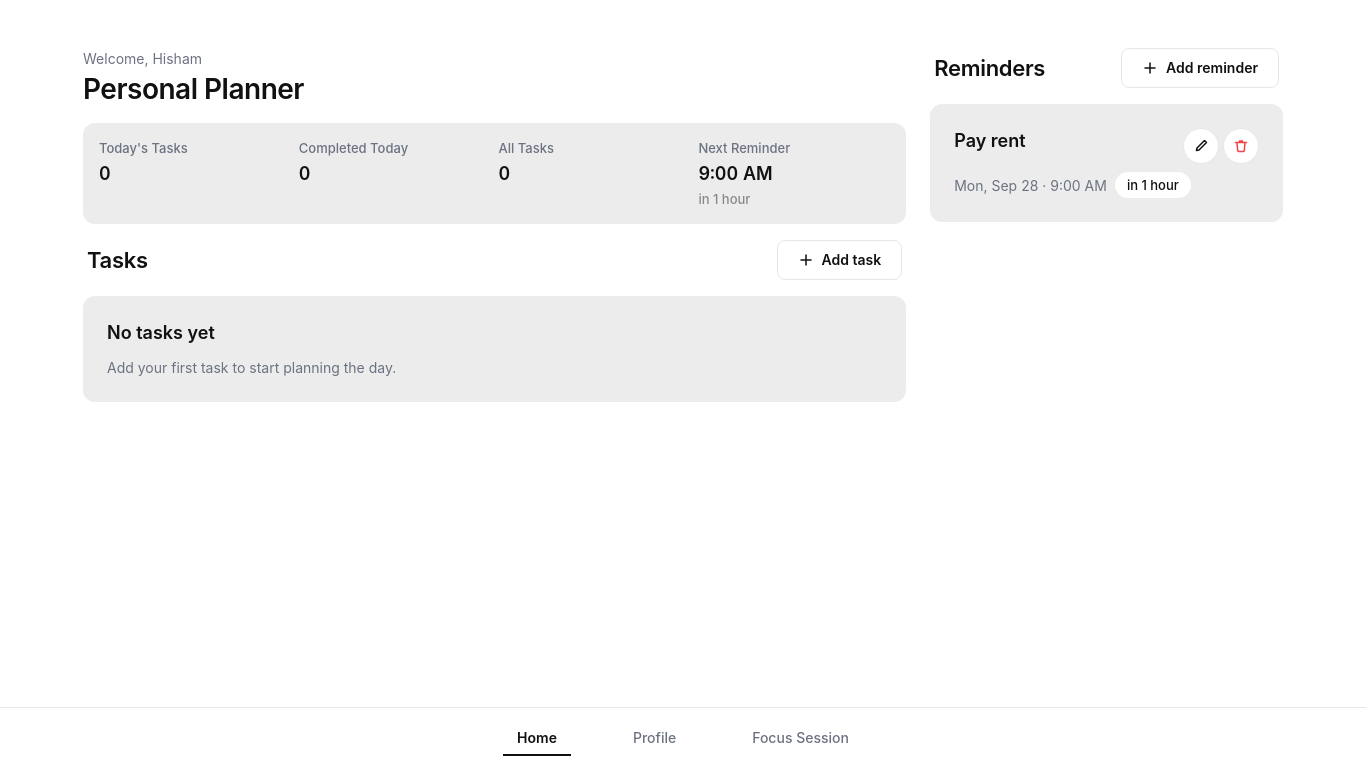
Test case: reminder flow › edits and deletes a reminder
The width and height of the screenshot is (1366, 768).
Expected: the heading "Personal Planner" is shown, [83,72,304,106]
Expected: the text "Pay rent" is shown, [954,128,1026,153]
Click the button named "Edit \"Pay rent\"". click: click(1201, 146)
box: [1183,128,1219,164]
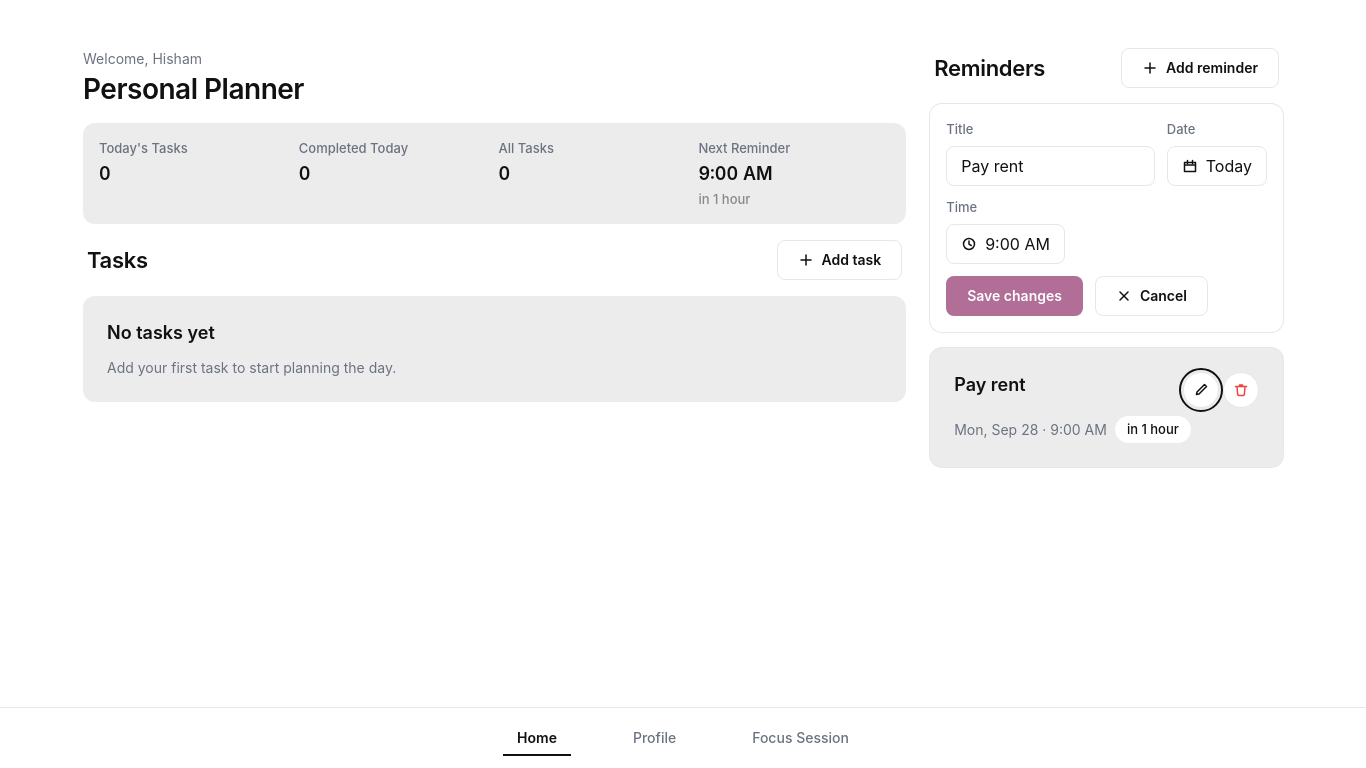
Replace the text in the field labelled "Title" with "Pay council tax". click: (1050, 166)
box: [946,146,1155,186]
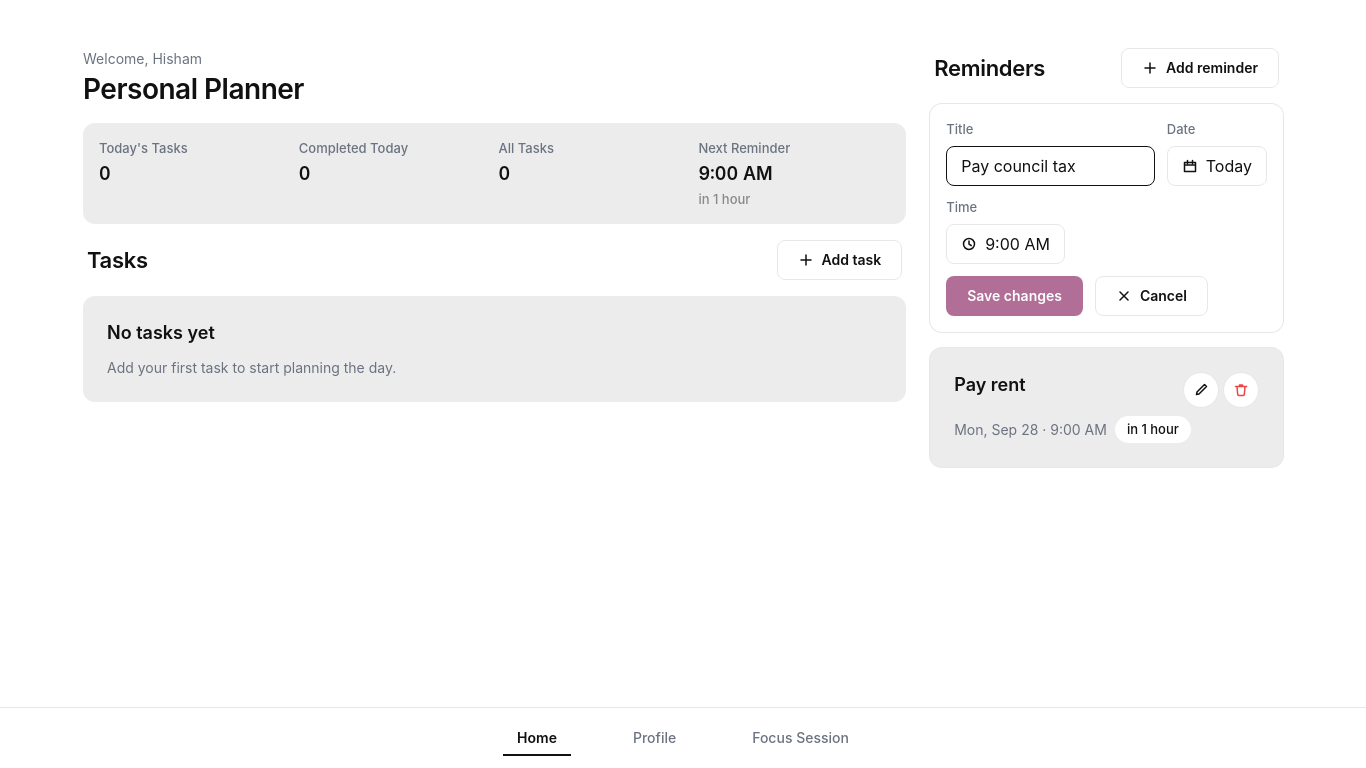
Click the button "Save changes". click: click(1015, 296)
box: [946,276,1083,316]
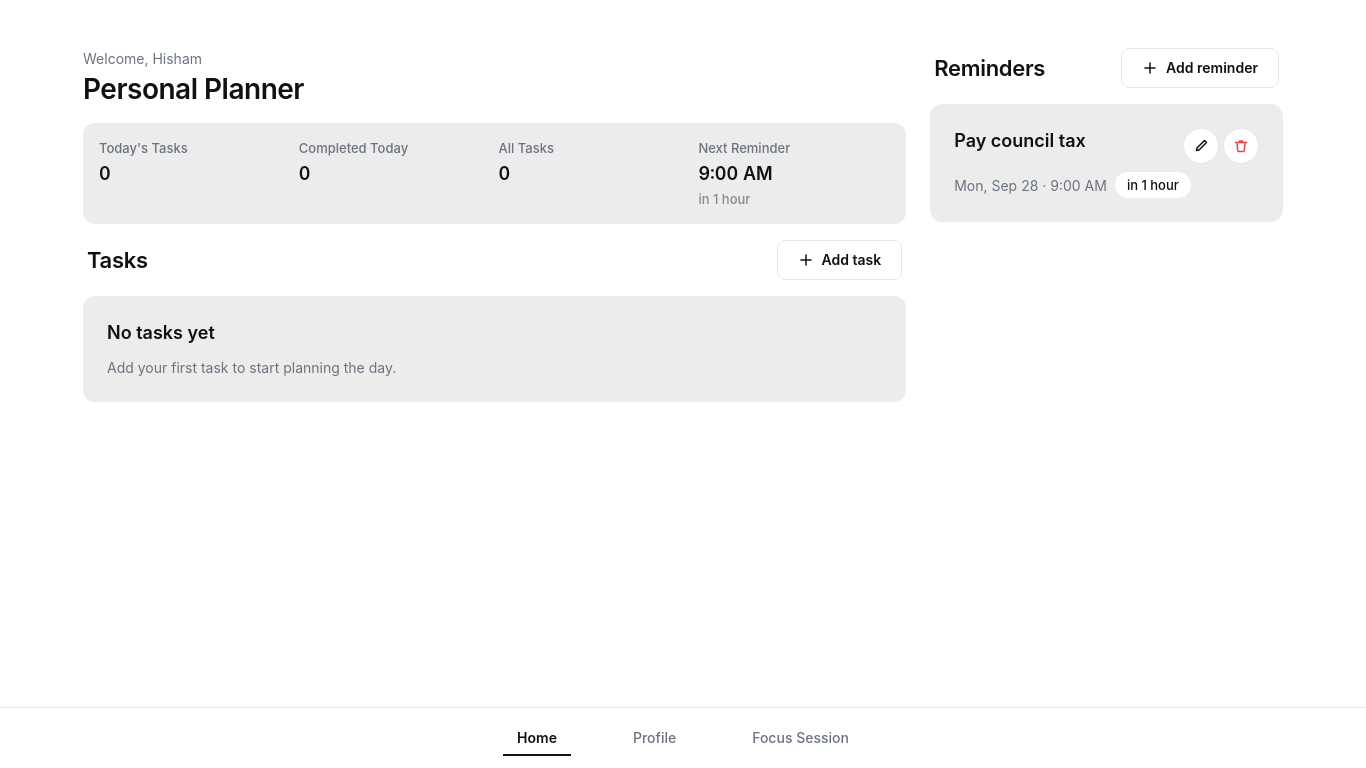
Now the text "Pay council tax" is shown, box [954,128,1086,153]
Click the button named "Delete \"Pay council tax\"". click: click(1241, 146)
box: [1223,128,1259,164]
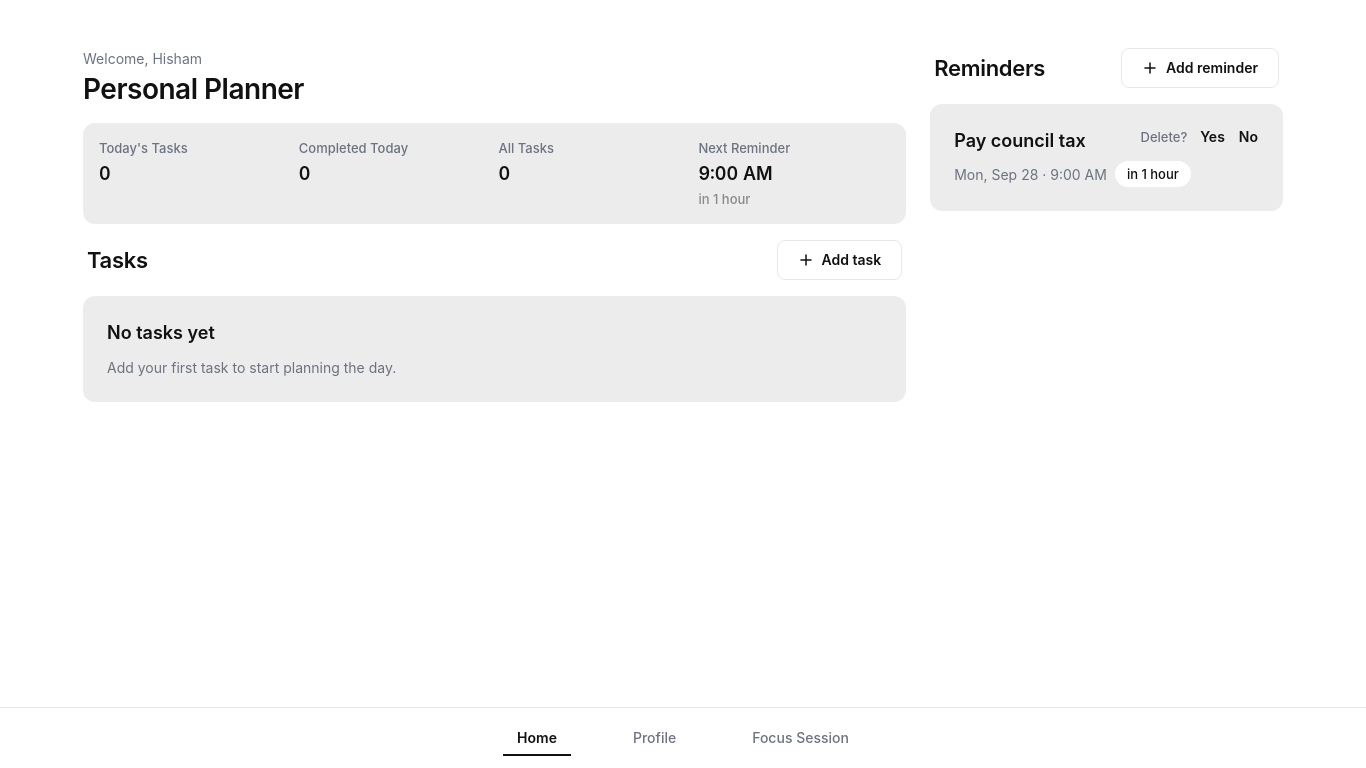
Click the button "Yes". click: click(1213, 137)
box: [1199,129,1226,145]
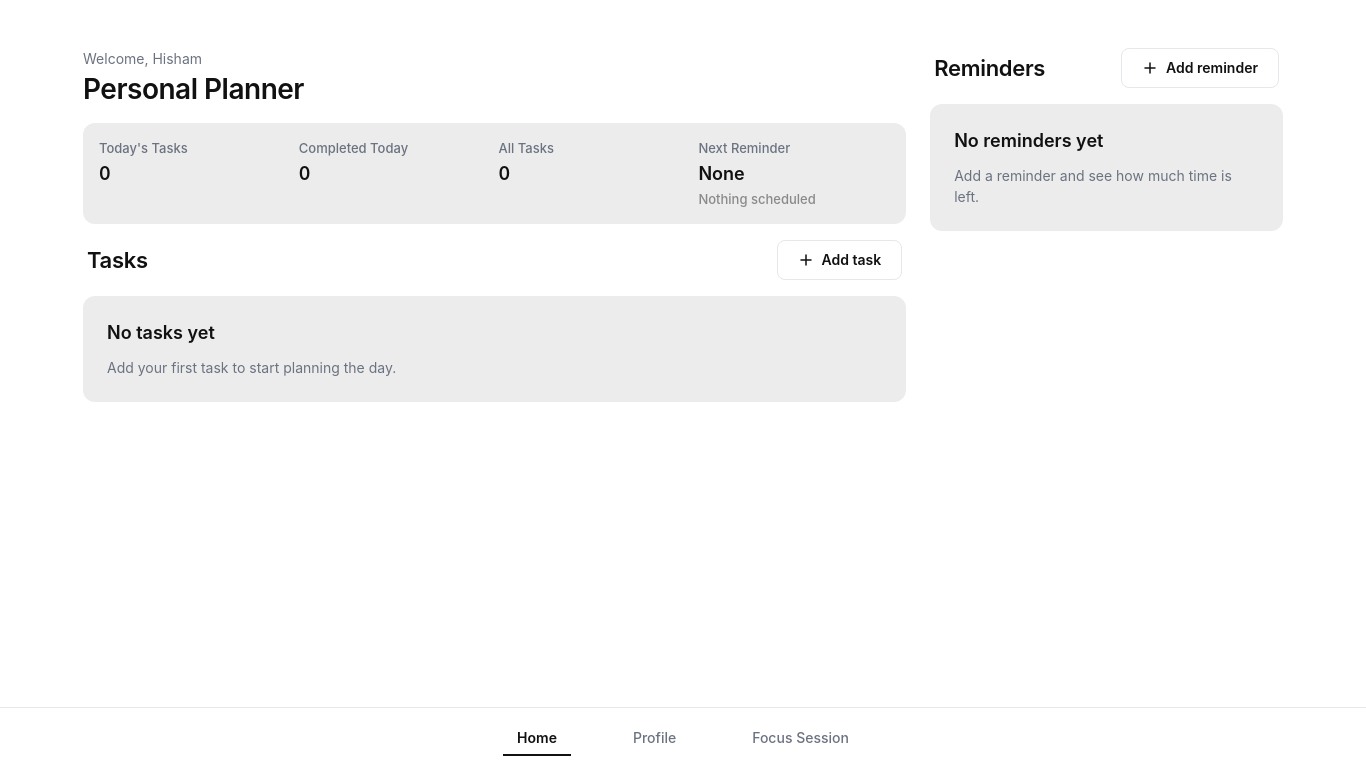
Now the text "No reminders yet" is shown, box [954,128,1103,153]
